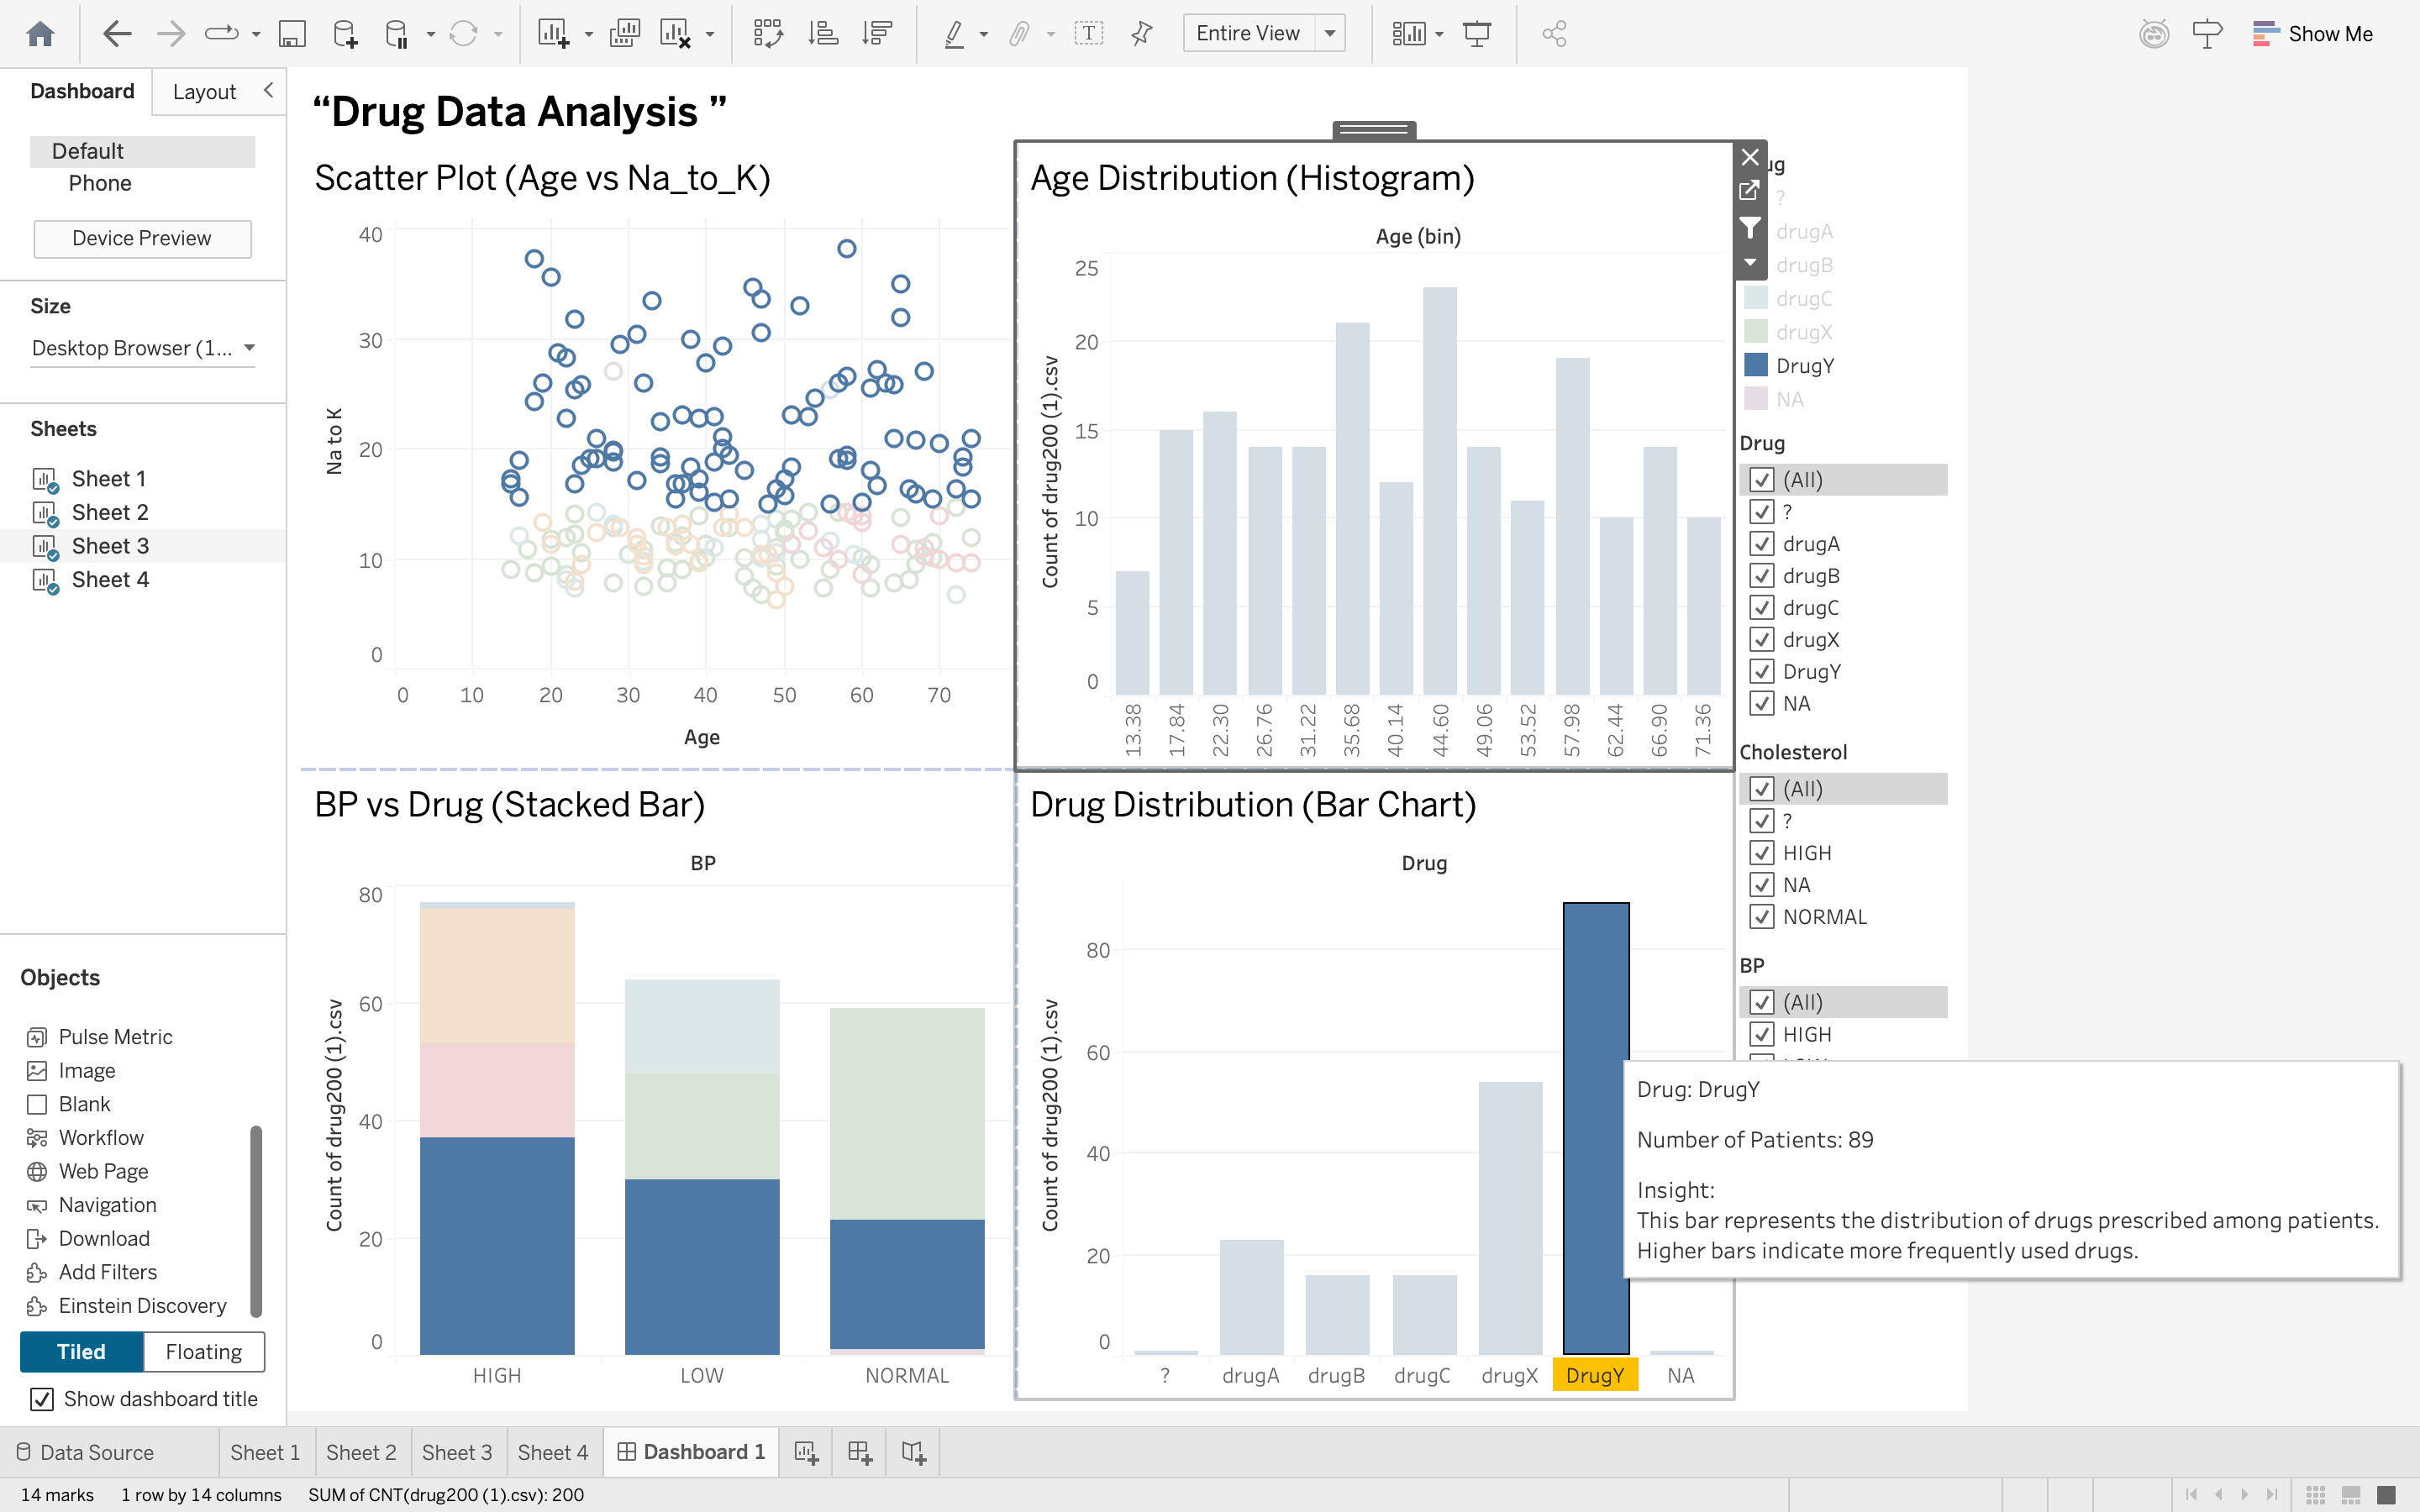

The dashboard page shown, as its layout file describes it:
{"tool":"tableau","page":{"name":"Dashboard 1","canvas":[1000,800],"ordinal":0},"visuals":[{"type":"title","box":[8,8,984,37]},{"type":"worksheet","title":"Sheet 4","mark":"Automatic","rows":["Na_to_K"],"cols":["Age"],"box":[8,45,426,373.5]},{"type":"worksheet","title":"Sheet 3","mark":"Automatic","rows":["drug200 (1).csv_AA0C963CF9534E9084CA0C074F5DABD5"],"cols":["Age (bin)"],"box":[434,45,426,373.5]},{"type":"legend","title":"Sheet 4","param":"[federated.0yvx1i319t8reb1bow4qh1xm6ua2].[none:Drug:nk]","box":[860,45,132,166]},{"type":"filter","title":"Sheet 1","param":"[federated.0yvx1i319t8reb1bow4qh1xm6ua2].[none:Drug:nk]","box":[860,211,132,184]},{"type":"filter","title":"Sheet 2","param":"[federated.0yvx1i319t8reb1bow4qh1xm6ua2].[none:Cholesterol:nk]","box":[860,395,132,127]},{"type":"worksheet","title":"Sheet 2","mark":"Automatic","rows":["drug200 (1).csv_AA0C963CF9534E9084CA0C074F5DABD5"],"cols":["BP"],"box":[8,418.5,426,373.5]},{"type":"worksheet","title":"Sheet 1","mark":"Automatic","rows":["drug200 (1).csv_AA0C963CF9534E9084CA0C074F5DABD5"],"cols":["Drug"],"box":[434,418.5,426,373.5]},{"type":"filter","title":"Sheet 2","param":"[federated.0yvx1i319t8reb1bow4qh1xm6ua2].[none:BP:nk]","box":[860,522,132,108]}]}

Visuals, with their boxes on the page's 1000x800 design canvas (x1, y1, x2, y2). These are canvas units, not pixel positions in the 2420x1512 screenshot, which may show the page scaled, cropped or inside an application window:
title: 8,8,992,45
"Sheet 4" worksheet: 8,45,434,418
"Sheet 3" worksheet: 434,45,860,418
"Sheet 4" legend: 860,45,992,211
"Sheet 1" filter: 860,211,992,395
"Sheet 2" filter: 860,395,992,522
"Sheet 2" worksheet: 8,418,434,792
"Sheet 1" worksheet: 434,418,860,792
"Sheet 2" filter: 860,522,992,630
